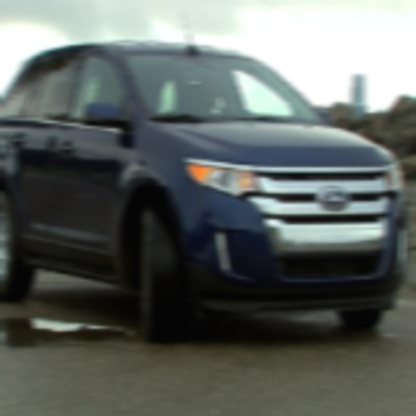Vehicle: (2, 38, 410, 347)
